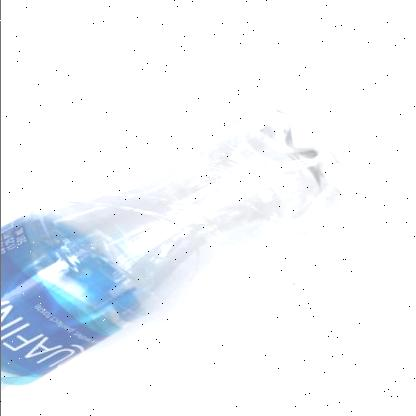Plastic Bottle: (1, 109, 341, 400)
